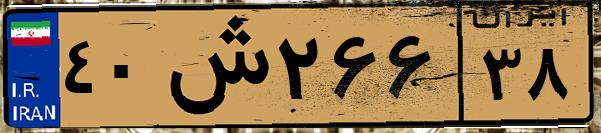0: (110, 28, 158, 98)
2: (270, 28, 330, 110)
3: (475, 38, 525, 113)
4: (57, 26, 110, 100)
6: (385, 28, 445, 110), (330, 28, 385, 110)
8: (525, 38, 570, 115)
ش: (158, 12, 270, 120)
